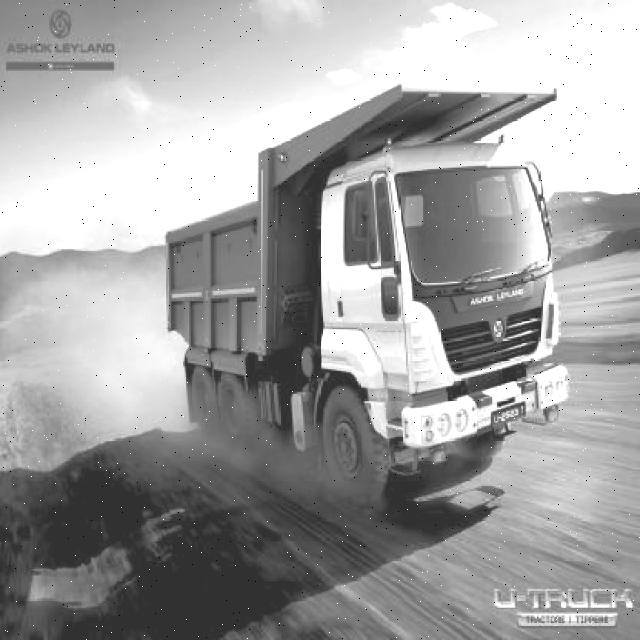HCV: (125, 169, 560, 452)
